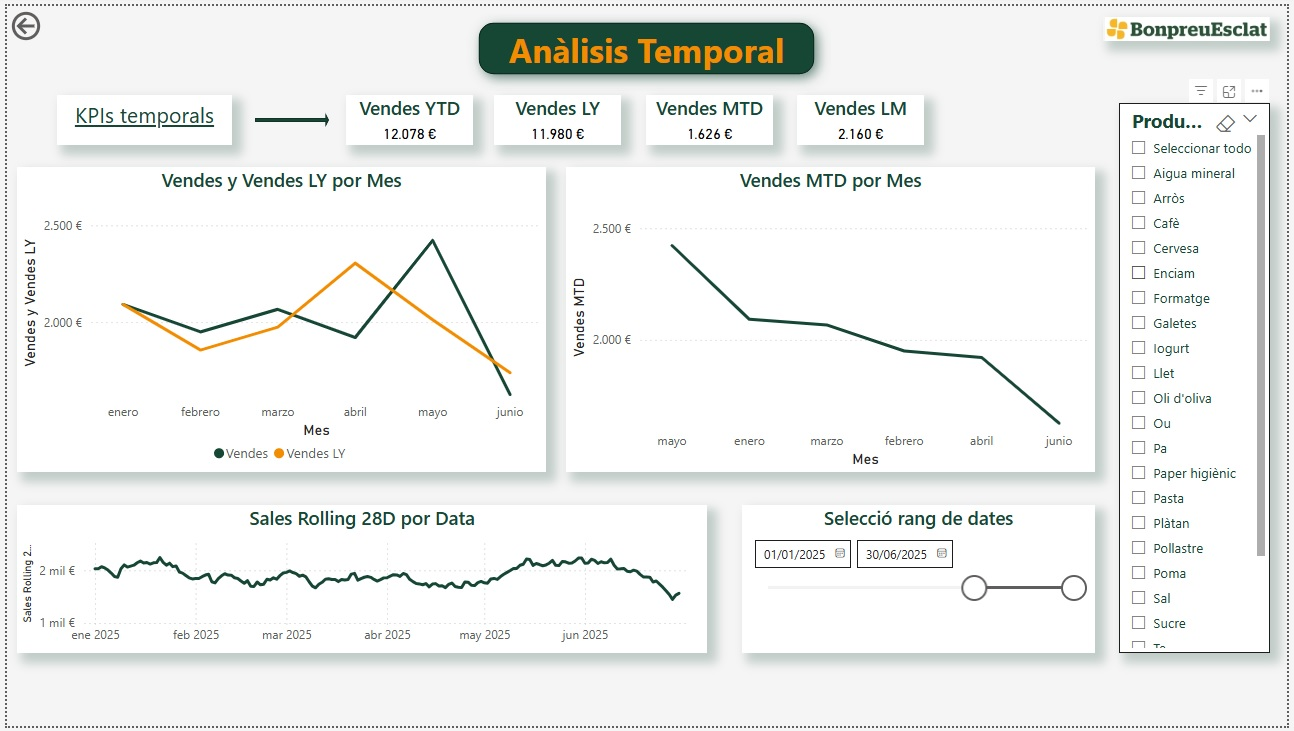

The page's visual inventory and layout, read from the dashboard file:
{"tool":"powerbi","page":{"name":"Time Analysis","canvas":[1280,720],"ordinal":2},"visuals":[{"type":"image","box":[33,4,160,36],"z":0},{"type":"multiRowCard","fields":{"Values":["sales_staging.Sales YTD","sales_staging.Sales LY","sales_staging.Sales Prev Month","sales_staging.Sales MTD"]},"box":[54.1,83.8,1173,64.9],"z":1},{"type":"actionButton","box":[0,0,100,40],"z":2},{"type":"lineChart","fields":{"Y":["sales_staging.Total Sales","sales_staging.Sales LY"]},"box":[0,168.9,640.5,239.2],"z":3},{"type":"columnChart","fields":{"Category":["Calendar.MonthName"],"Y":["sales_staging.Sales MTD"]},"box":[0,431.1,640.5,236.5],"z":4},{"type":"lineChart","fields":{"Category":["Calendar.Date"],"Y":["sales_staging.Sales Rolling 28D"]},"box":[640.5,168.9,639.2,239.2],"z":5},{"type":"slicer","fields":{"Values":["Calendar.Year"]},"box":[1017,450,198,99],"z":6},{"type":"slicer","fields":{"Values":["sales_staging.product"]},"box":[739,450,203,265],"z":7}]}

Visuals, with their boxes in screenshot pixels (x1, y1, x2, y2), scaled from the page's 1280x720 canvas onto the 1294x731 screenshot:
image: (33,4,195,41)
multiRowCard - sales_staging.Sales YTD x sales_staging.Sales LY: (55,85,1241,151)
actionButton: (0,0,101,41)
lineChart - sales_staging.Total Sales x sales_staging.Sales LY: (0,171,648,414)
columnChart - Calendar.MonthName x sales_staging.Sales MTD: (0,438,648,678)
lineChart - Calendar.Date x sales_staging.Sales Rolling 28D: (648,171,1293,414)
slicer - Calendar.Year: (1028,457,1228,557)
slicer - sales_staging.product: (747,457,952,726)
